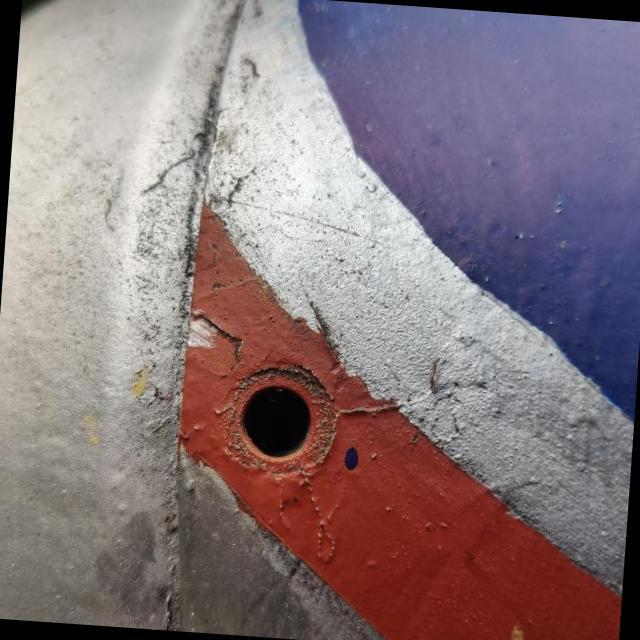Fastener Damage: (144, 281, 427, 562)
